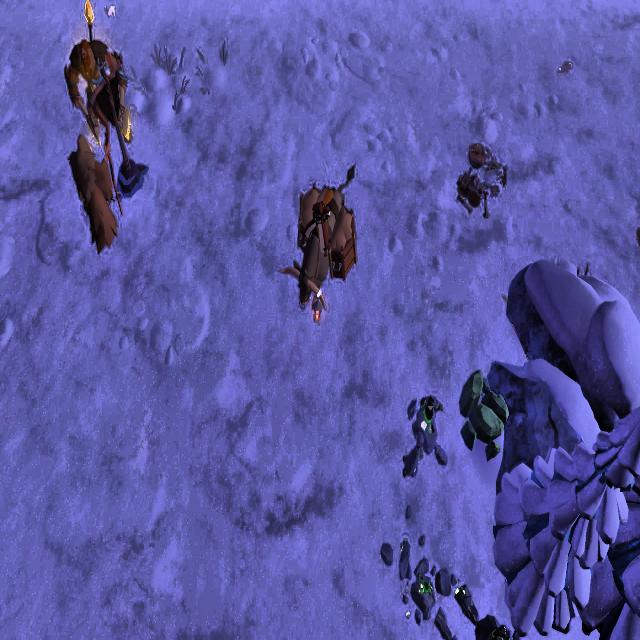enemy_factionKeeper: (63, 36, 134, 146)
rock_t3: (458, 367, 508, 461)
